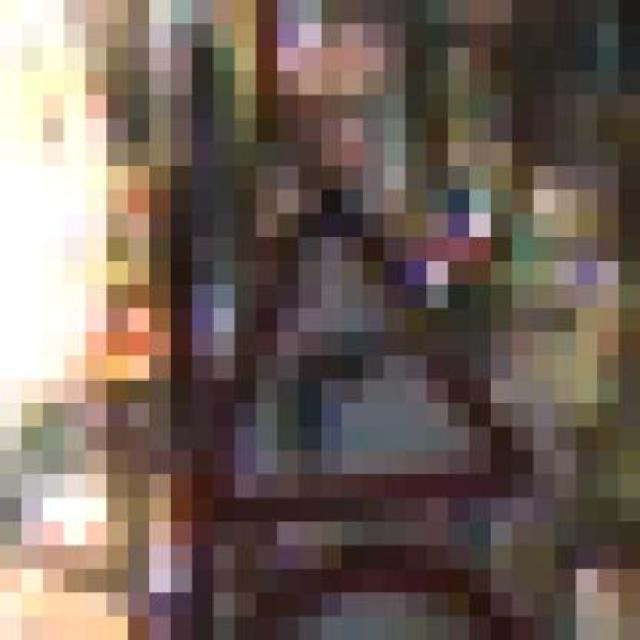Dangerous Rright Curve Ahead: (128, 166, 534, 522)
